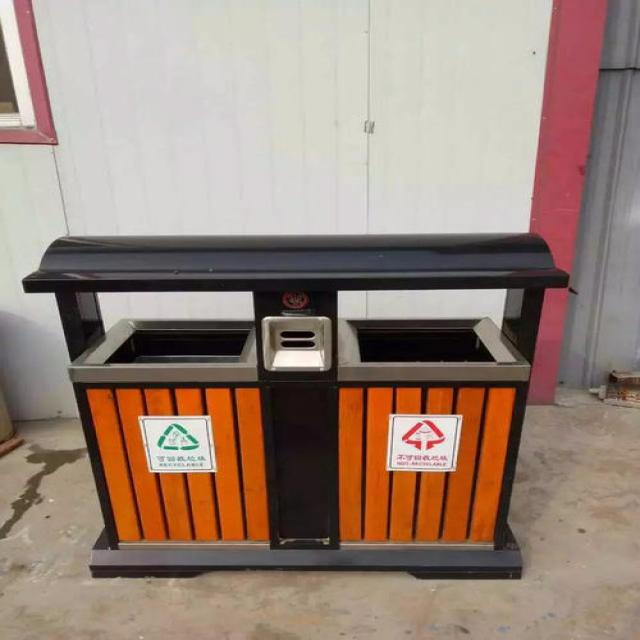garbage_bin: (21, 231, 568, 580)
